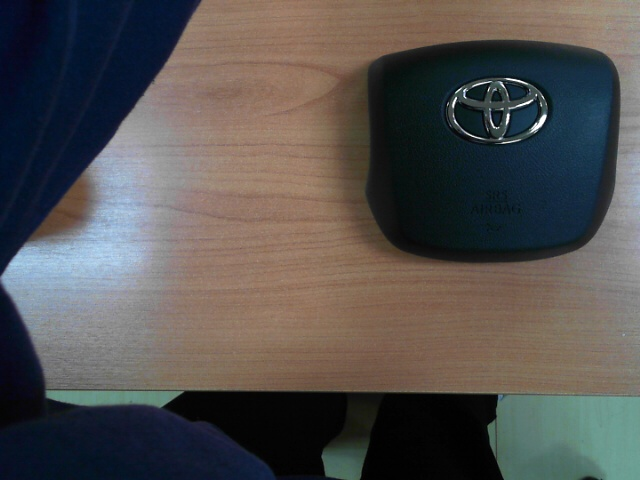AirbagV2: (367, 41, 618, 260)
